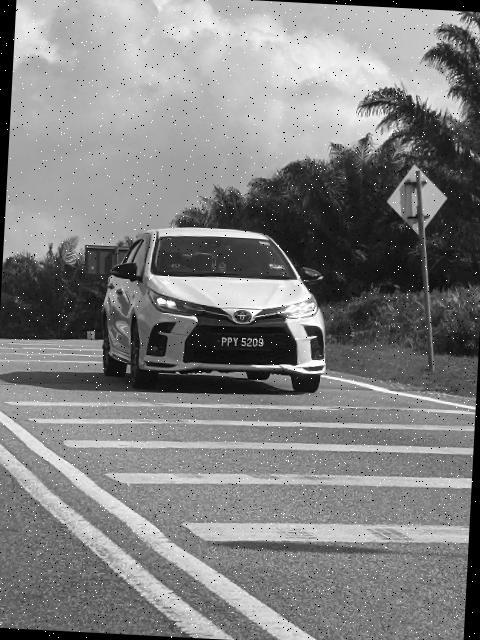License_Plate: (211, 334, 277, 352)
PPY5209: (211, 334, 277, 352)
car: (92, 220, 334, 400)
